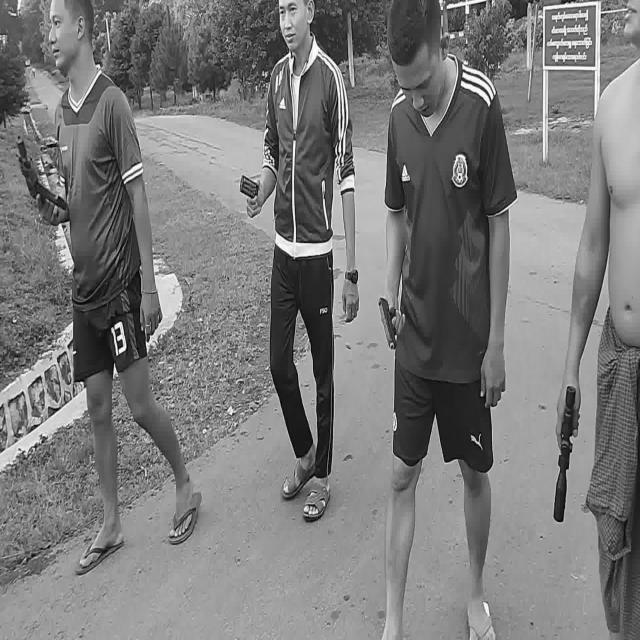gun: (16, 134, 68, 212), (378, 296, 397, 351)
